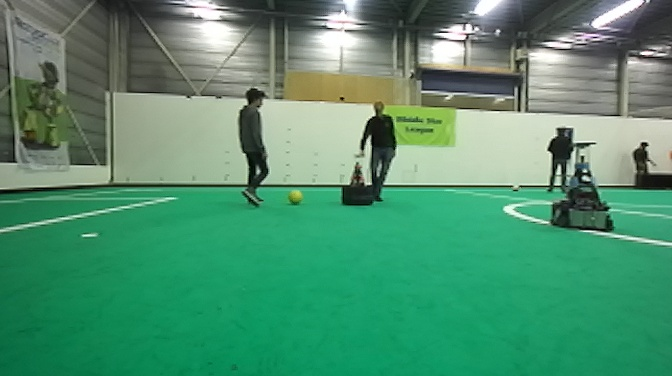ball: (286, 185, 304, 206), (509, 182, 521, 193)
human: (229, 86, 273, 209), (356, 90, 398, 203), (547, 126, 575, 193), (629, 138, 659, 187)
robot: (549, 140, 616, 233), (339, 152, 377, 207)
